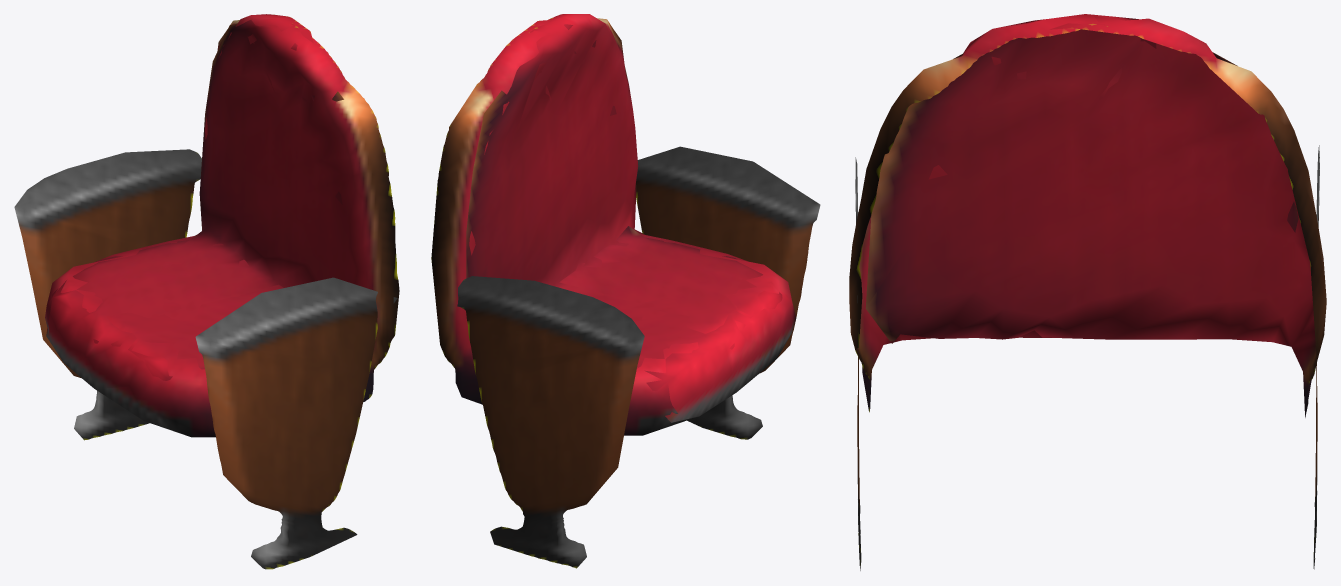
The model's file is chair_single.fbx.
The picture shows the model from 3 angles, left to right: view 1: azimuth 30°, elevation 25°; view 2: azimuth 150°, elevation 25°; view 3: azimuth 270°, elevation 25°; orthographic projection. The views are drawn at different scales.
Visible parts, largest first — view 1: chair_single; view 2: chair_single; view 3: chair_single.
Boxes of the visible parts, x1=… form: chair_single: x1=14, y1=14, x2=399, y2=569; chair_single: x1=431, y1=14, x2=820, y2=568; chair_single: x1=849, y1=14, x2=1326, y2=570.
Bounding box in the file's own units: 62.8 × 118 × 87.51.
2 materials, 2 textured.
